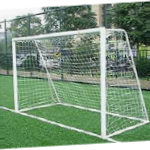goals: (11, 26, 149, 137)
